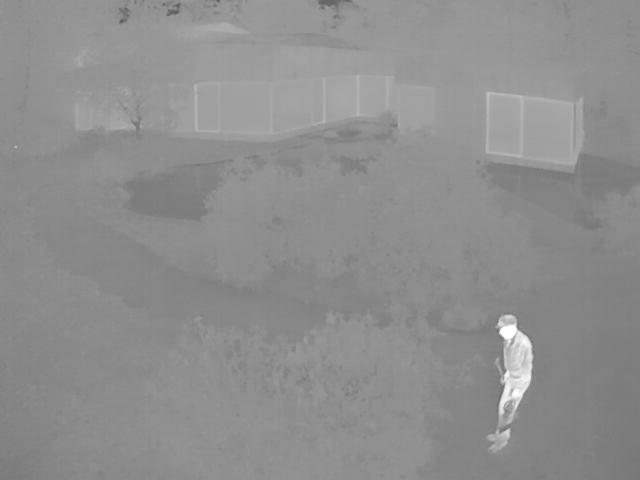person: (488, 312, 536, 450)
